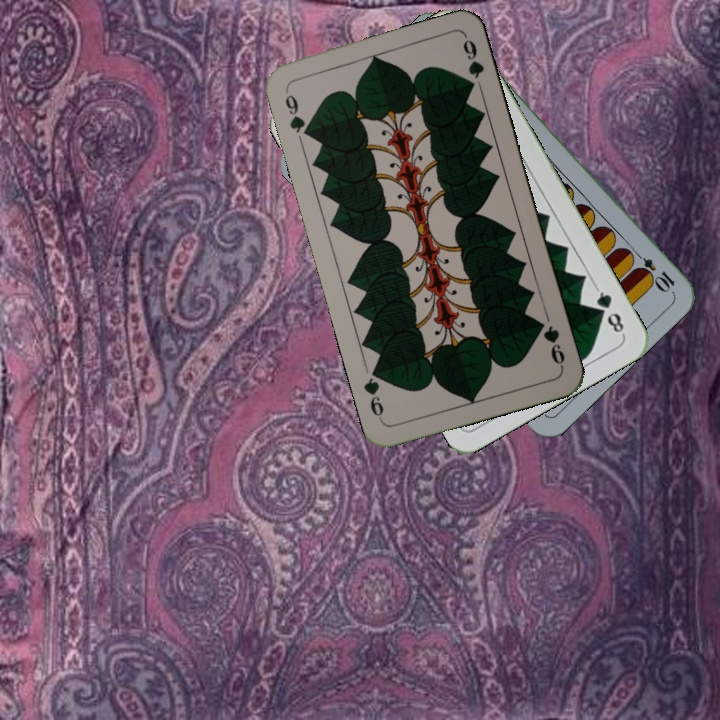E10: (628, 246, 678, 294)
G8: (591, 284, 627, 338)
G9: (532, 316, 568, 371), (281, 86, 314, 141)
